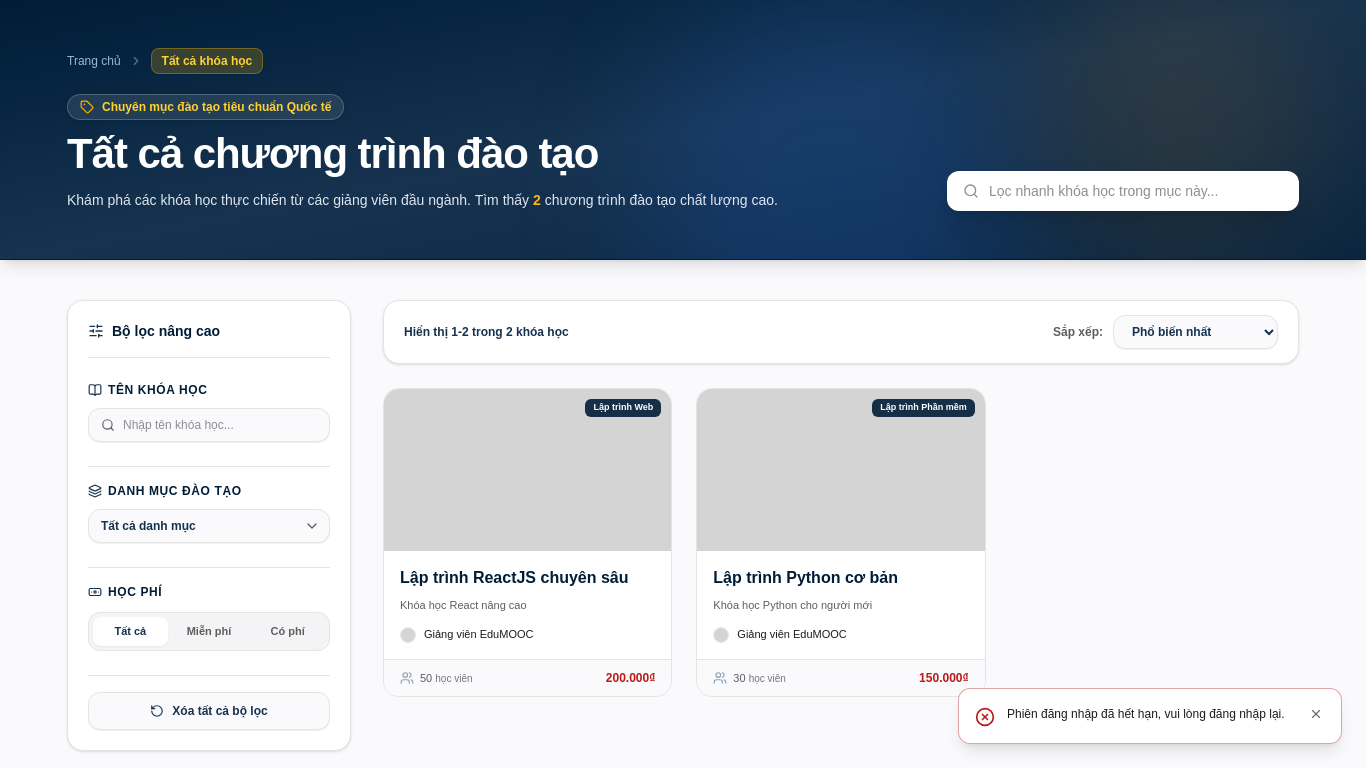
Scenario: CourseListingPage Component with Price Filtering & Pagination › lọc danh sách khóa học theo tên khóa học từ ô tìm kiếm trong sidebar
Expected: the heading "Lập trình ReactJS chuyên sâu" is shown, [400,567,655,589]
Expected: the heading "Lập trình Python cơ bản" is shown, [713,569,898,586]
In the field with placeholder "Nhập tên khóa học...": (220, 425) [123,417,317,433], type "ReactJS"
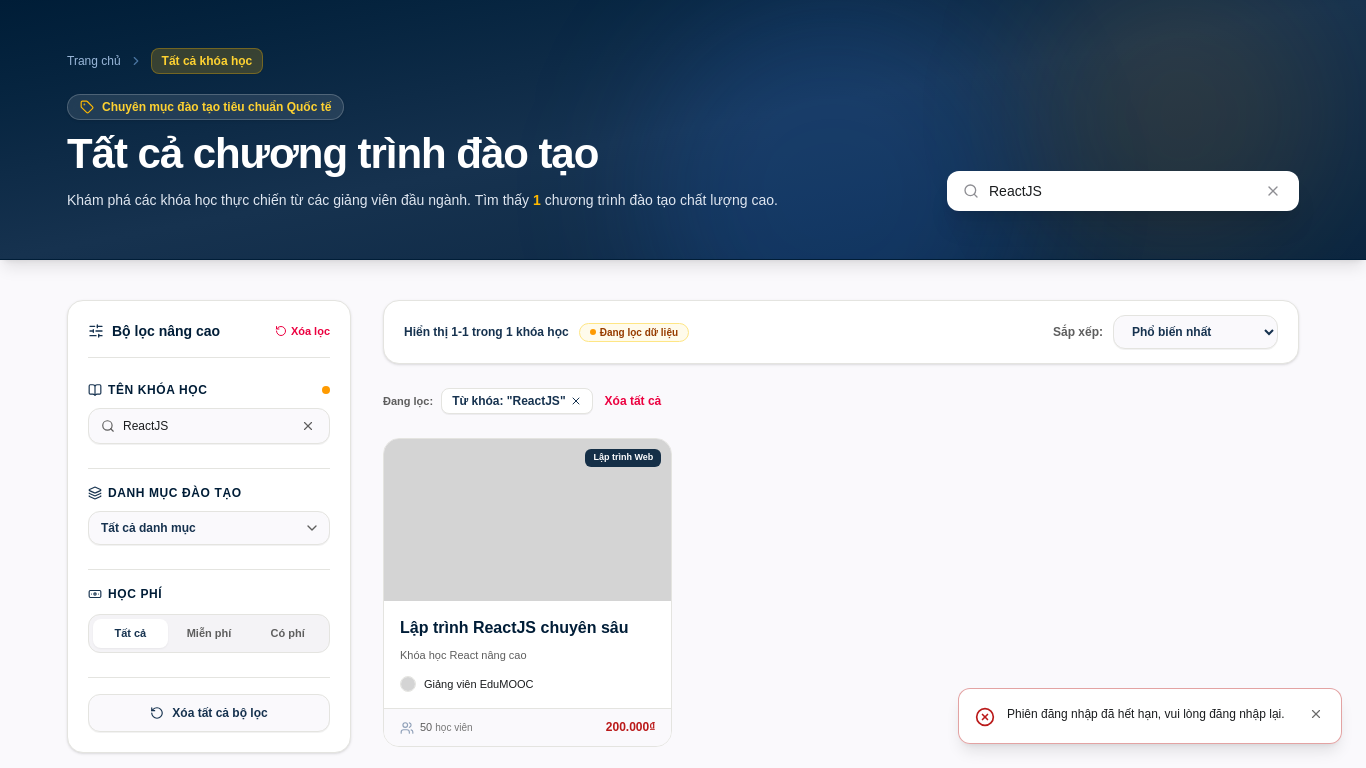
Expected: the heading "Lập trình ReactJS chuyên sâu" is shown, [400,617,655,639]
Now the heading "Lập trình Python cơ bản" is gone
Now the button titled "Xóa lọc tên khóa học" is shown
Click the button titled "Xóa lọc tên khóa học": (308, 426) [299,417,317,435]
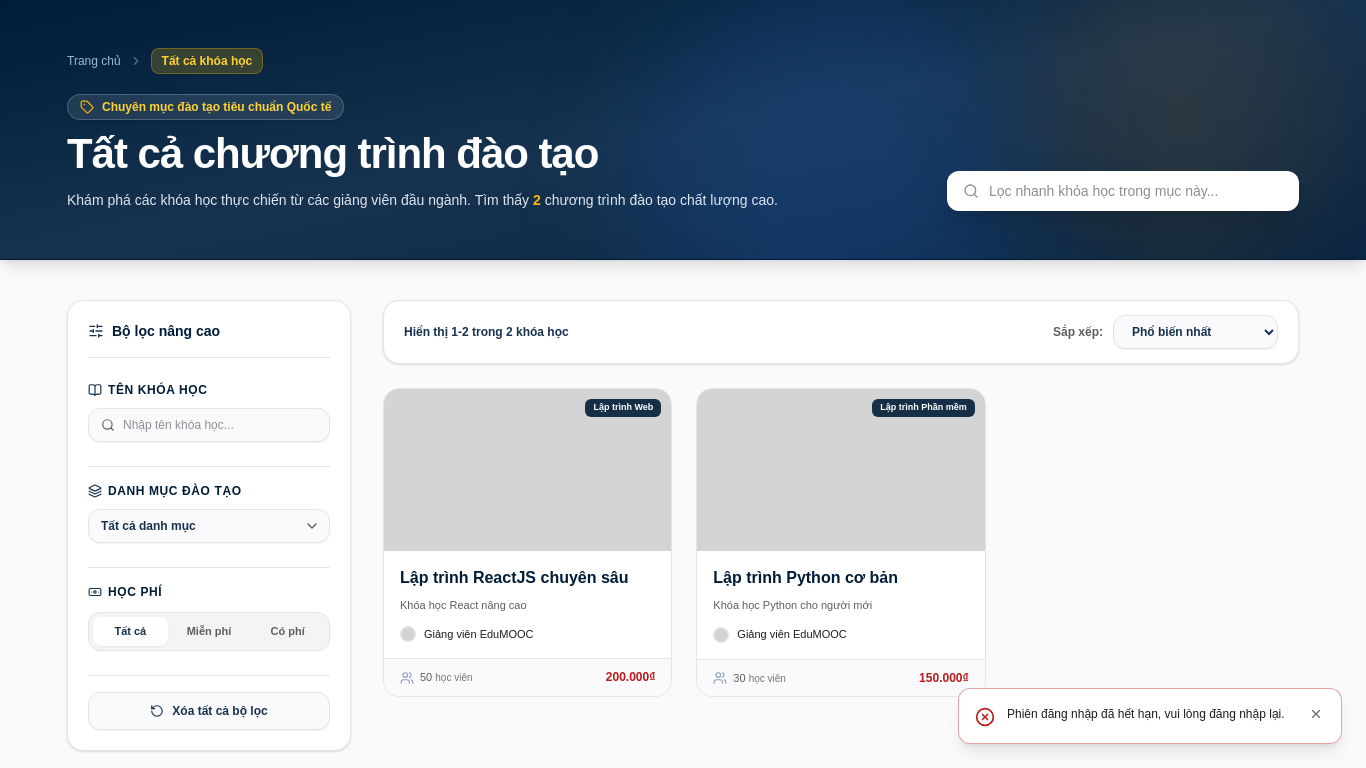
Expected: the heading "Lập trình ReactJS chuyên sâu" is shown, [400,567,655,589]
Now the heading "Lập trình Python cơ bản" is shown, box [713,569,898,586]
